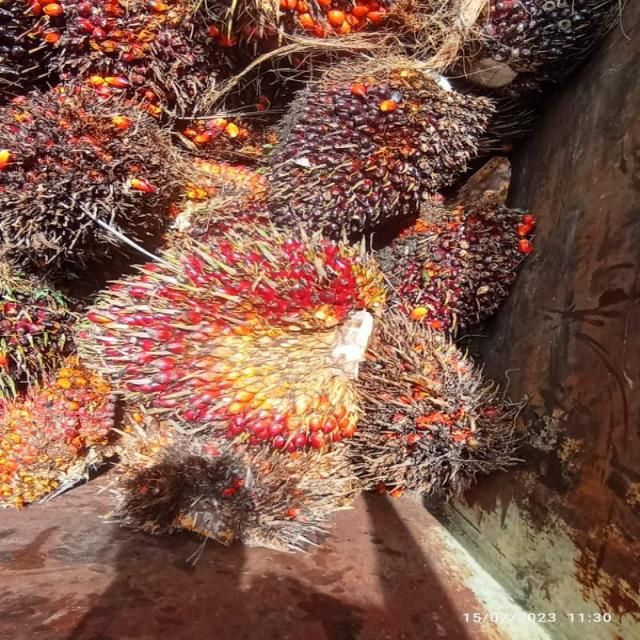fraksi 1: (252, 24, 528, 286), (387, 160, 571, 362)
fraksi 3: (23, 198, 463, 482)
fraksi 4: (0, 38, 196, 294), (354, 321, 566, 504)
